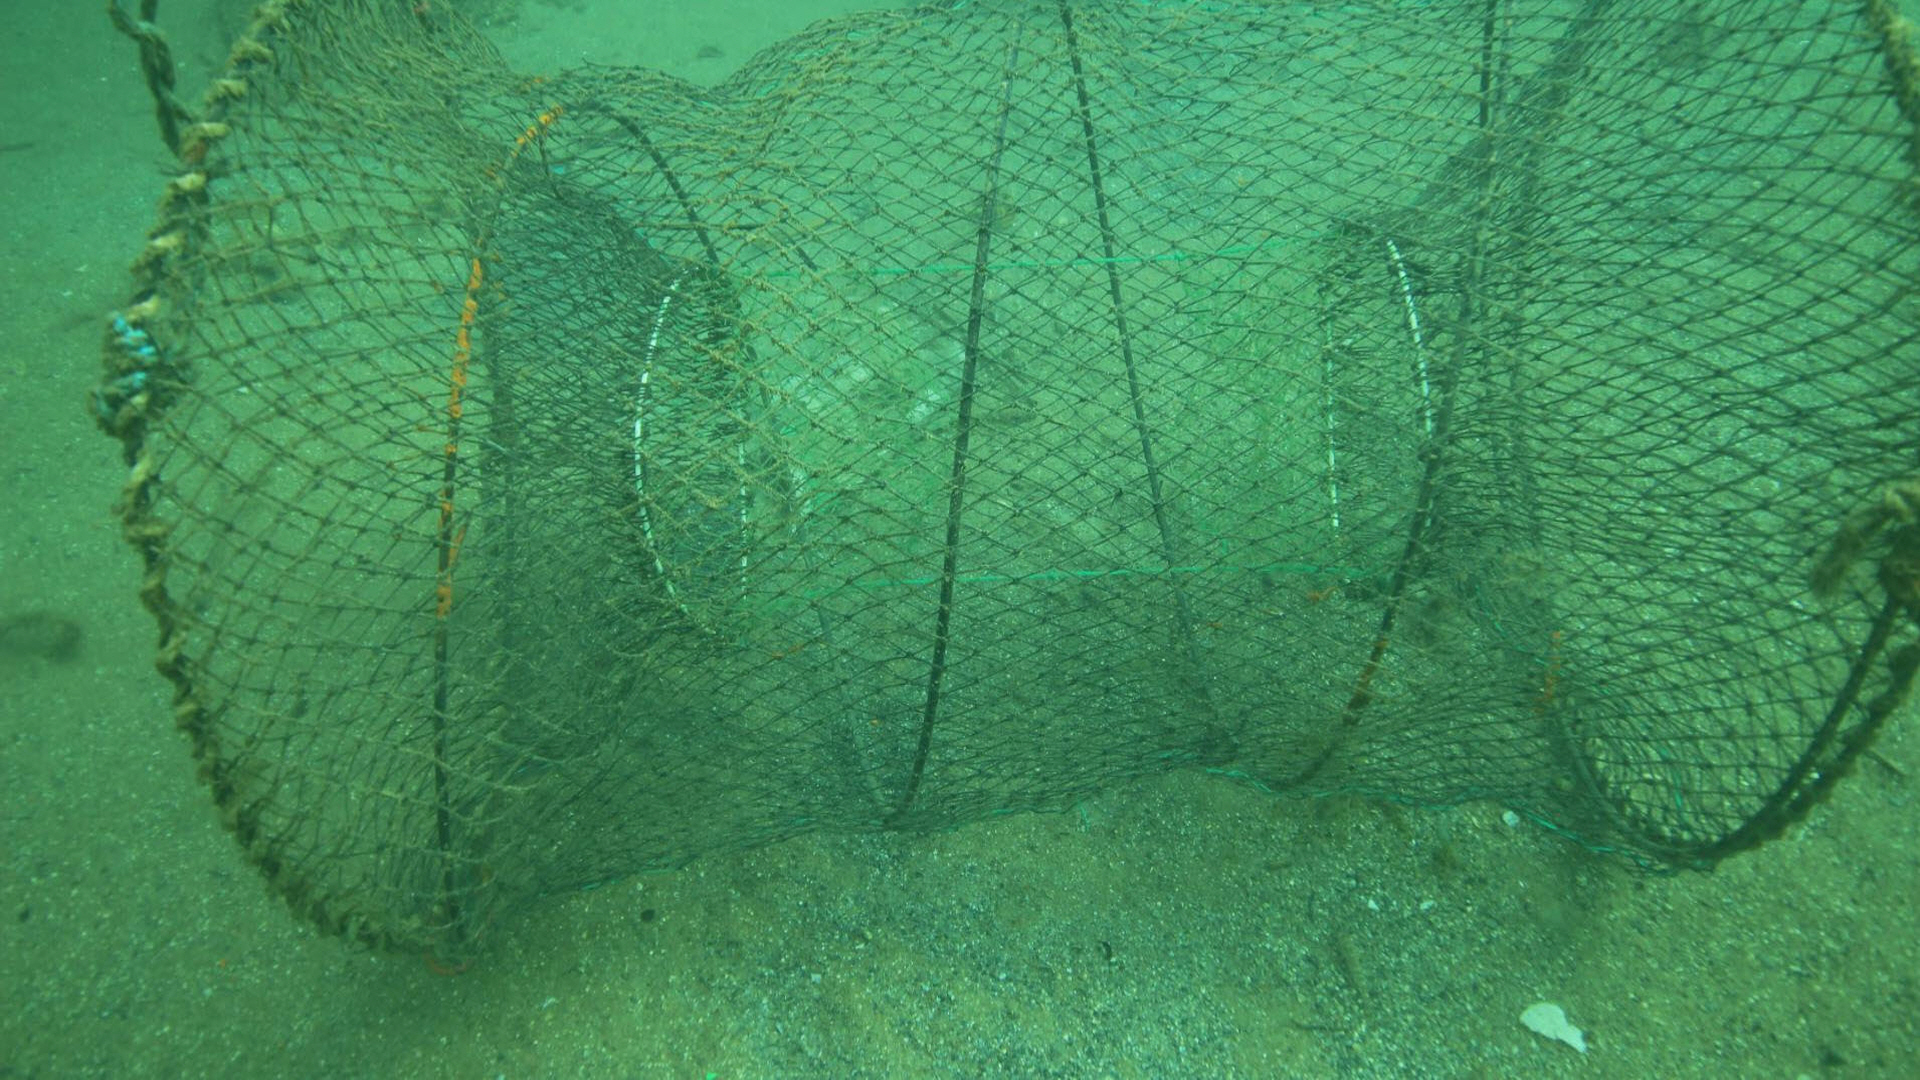spring fish trap: (105, 1, 1920, 956)
